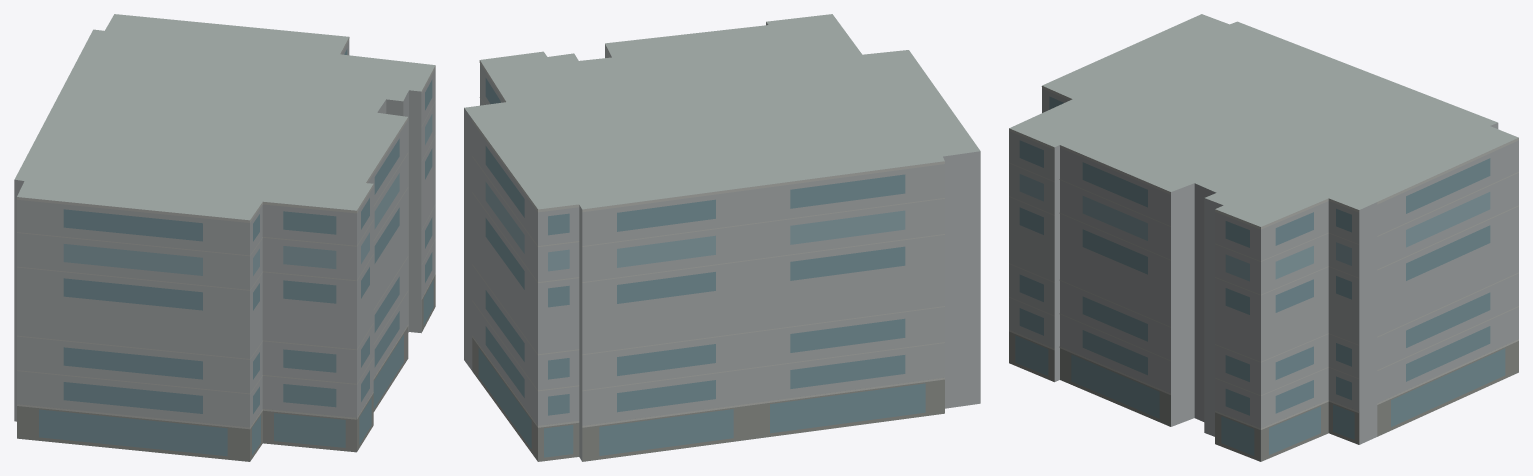
Rendered from survey-upis-32903726.glb.
3 renders of one model, left to right at view 1: azimuth 30°, elevation 25°; view 2: azimuth 150°, elevation 25°; view 3: azimuth 270°, elevation 25°, orthographic. The views are drawn at different scales.
Visible parts, largest first — view 1: survey-upis-32903726.tmp; view 2: survey-upis-32903726.tmp; view 3: survey-upis-32903726.tmp.
Boxes of the visible parts, x1,y1,x2,y2 form: survey-upis-32903726.tmp: (14, 14, 435, 461); survey-upis-32903726.tmp: (464, 14, 980, 461); survey-upis-32903726.tmp: (1009, 14, 1518, 461).
Size of the model in its own units: 41.54 by 21.35 by 42.
